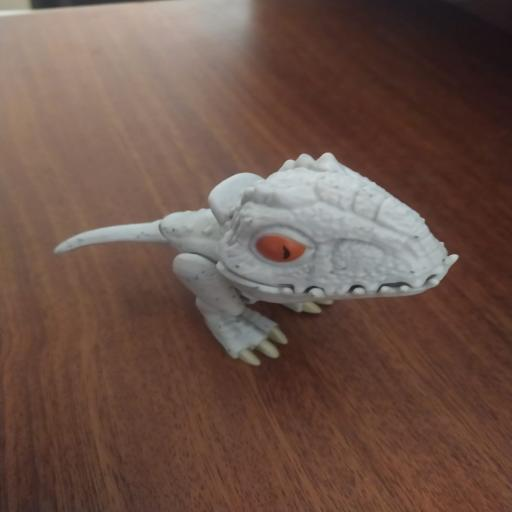Dinosaurio: (48, 147, 467, 372)
